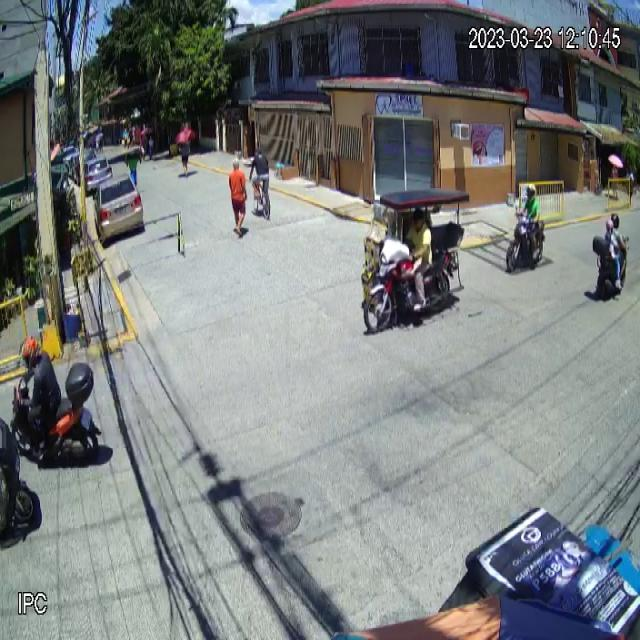Car: (92, 172, 144, 244)
Motorcycle: (10, 362, 101, 463), (506, 208, 546, 276), (592, 233, 630, 299)
Tricycle: (361, 188, 470, 334)
